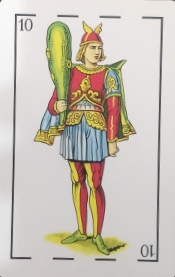10b: (14, 12, 165, 35)
